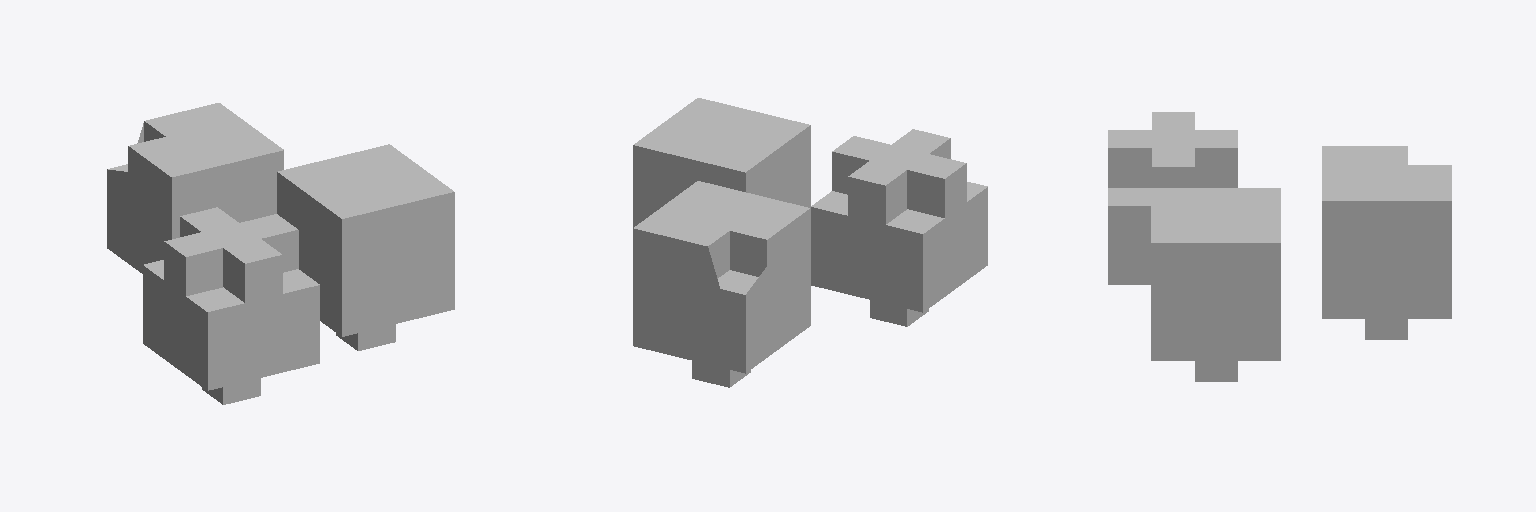
File: minegistics_tree_3.obj
3 renders of one model, left to right at view 1: azimuth 30°, elevation 25°; view 2: azimuth 150°, elevation 25°; view 3: azimuth 270°, elevation 25°, orthographic.
Visible parts, largest first — view 1: tree_6, tree_2, tree_5; view 2: tree_5, tree_2, tree_6; view 3: tree_6, tree_5, tree_2.
Boxes of the visible parts, <box> form: tree_6: <box>277,144,454,350</box>; tree_2: <box>143,207,319,404</box>; tree_5: <box>107,103,283,273</box>; tree_5: <box>633,181,810,387</box>; tree_2: <box>811,129,987,326</box>; tree_6: <box>633,98,810,227</box>; tree_6: <box>1151,188,1280,381</box>; tree_5: <box>1322,146,1451,339</box>; tree_2: <box>1108,112,1237,284</box>.
Bounding box in the file's own units: 0.8944 × 0.5 × 0.9905.